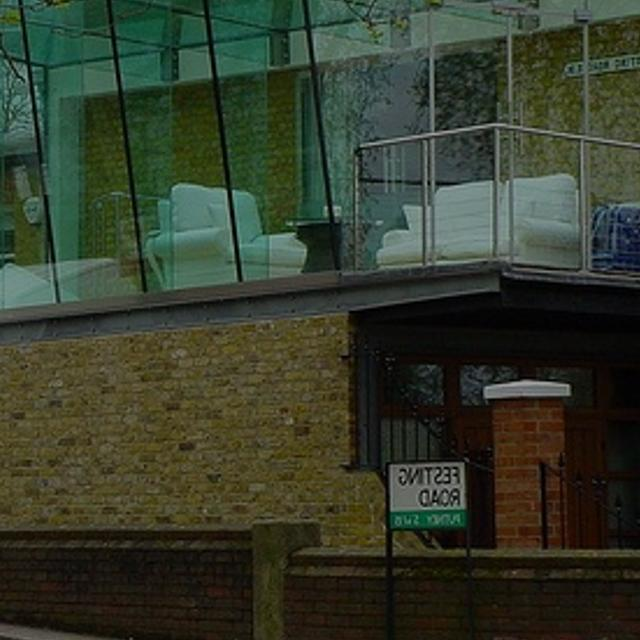chair: (149, 180, 307, 296)
sofa: (363, 178, 577, 272)
